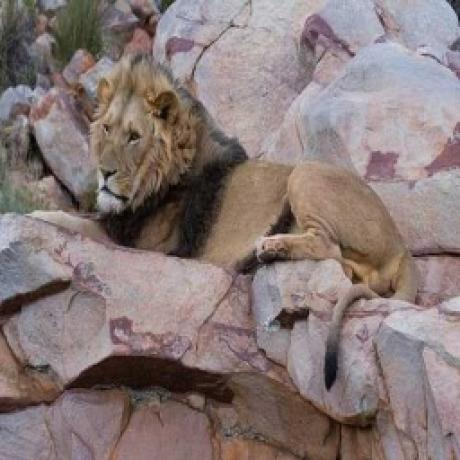Lion: (88, 65, 422, 392)
